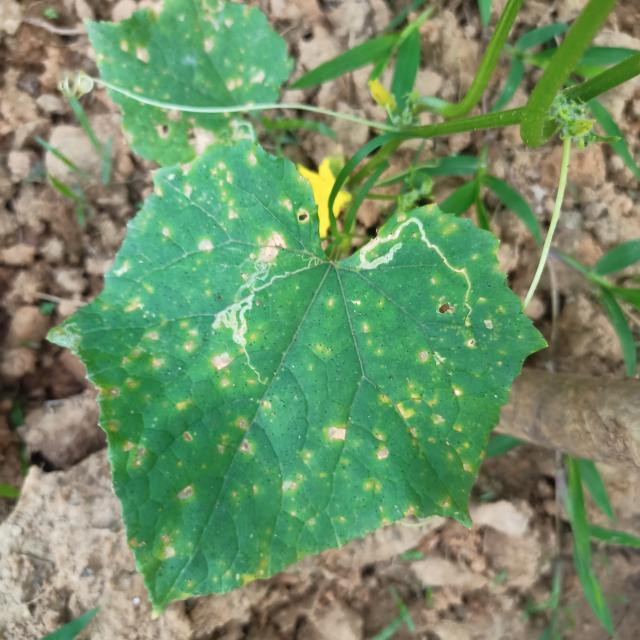disease_cucumber: (99, 159, 493, 573), (110, 12, 264, 140)
